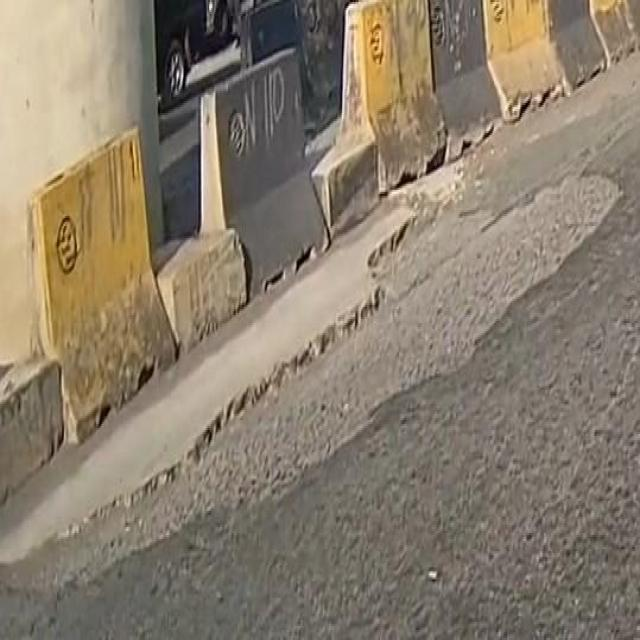Pothole: (7, 171, 629, 595)
